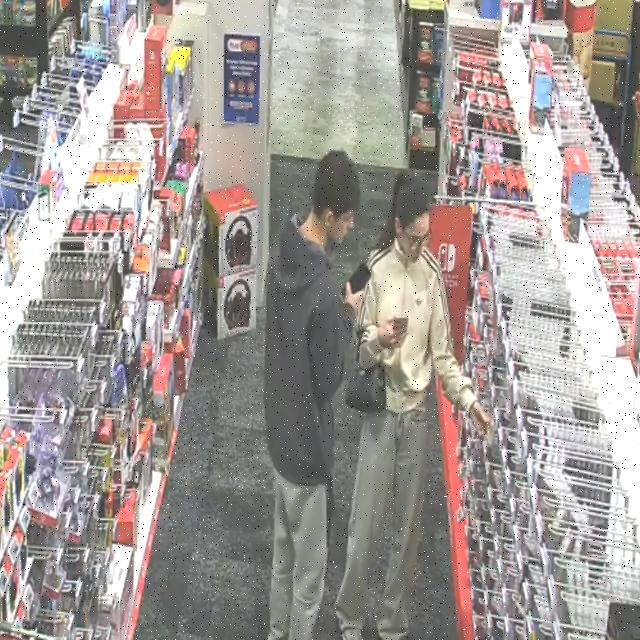bags: (346, 359, 386, 413)
hands: (378, 318, 406, 349), (469, 400, 492, 434), (344, 283, 363, 314)
person: (336, 172, 489, 639), (264, 152, 361, 639)
